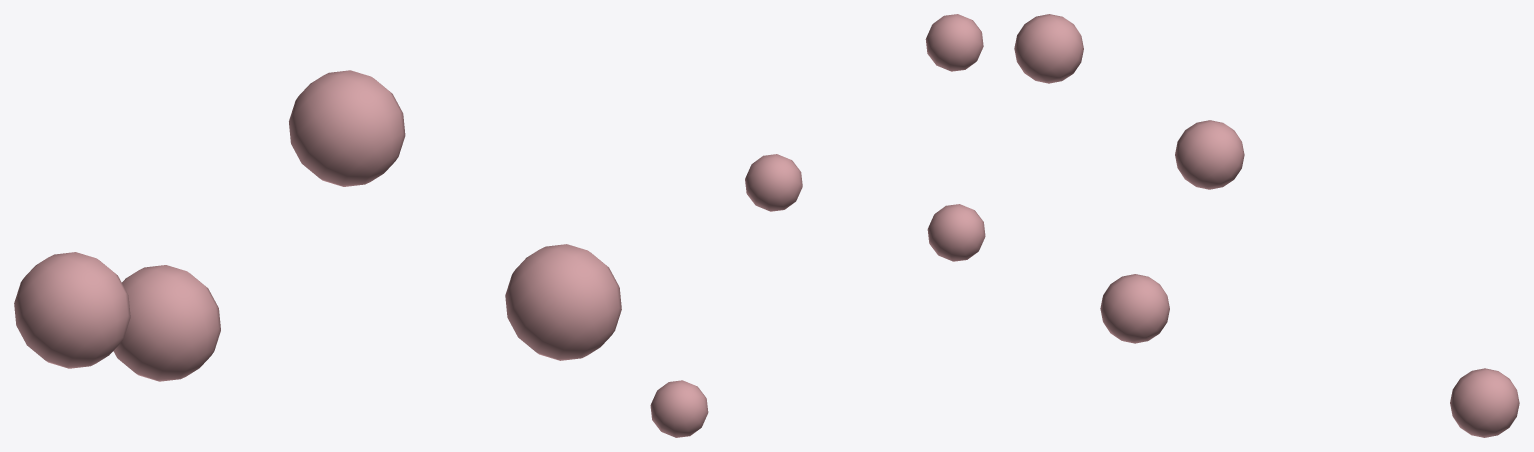
The picture shows the model from 3 angles, left to right: view 1: azimuth 30°, elevation 25°; view 2: azimuth 150°, elevation 25°; view 3: azimuth 270°, elevation 25°; orthographic projection. The views are drawn at different scales.
Parts seen in each view (by area): view 1: ZA_d7ac3f28e917bb0e; view 2: ZA_d7ac3f28e917bb0e; view 3: ZA_d7ac3f28e917bb0e.
Boxes of the visible parts, x1=… form: ZA_d7ac3f28e917bb0e: x1=14, y1=70, x2=621, y2=381; ZA_d7ac3f28e917bb0e: x1=650, y1=14, x2=985, y2=437; ZA_d7ac3f28e917bb0e: x1=1014, y1=14, x2=1519, y2=437.
Bounding box in the file's own units: 0.0135 × 0.015 × 0.0188.
